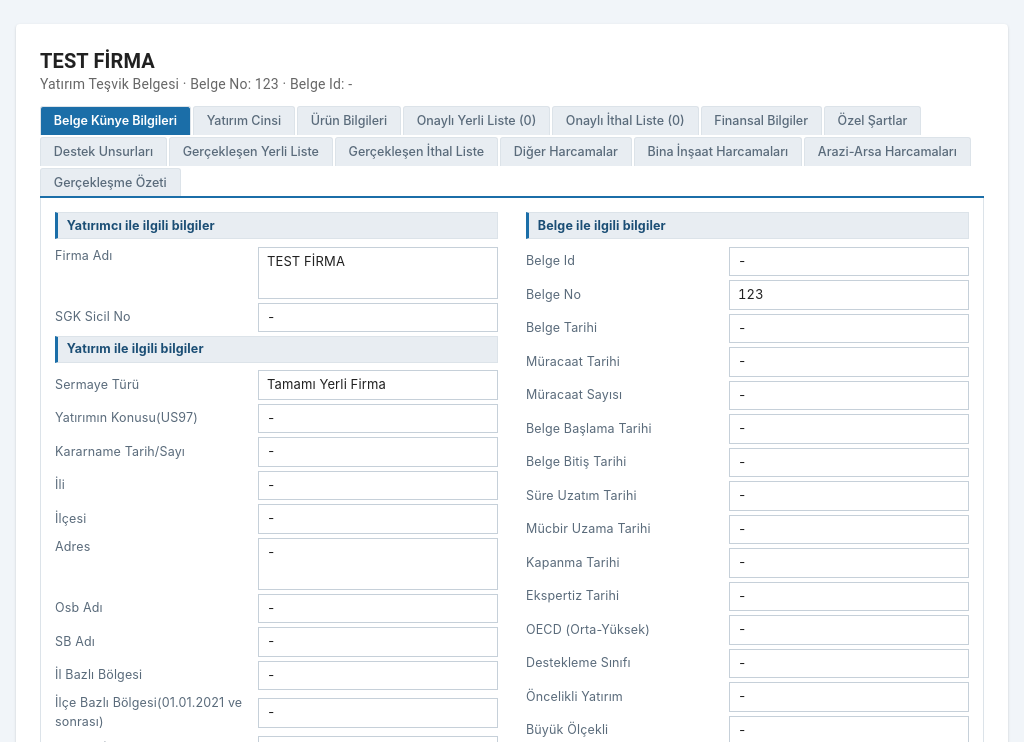
Test: müşteri ithal makinede birim etiketini, EUR birim fiyatını ve USD FOB toplamını görür
This screenshot has width=1024, height=742.
Later steps or results of the test are not shown.
Click the tab "Gerçekleşen İthal Liste" at (416, 151), box [335,137,498,166]
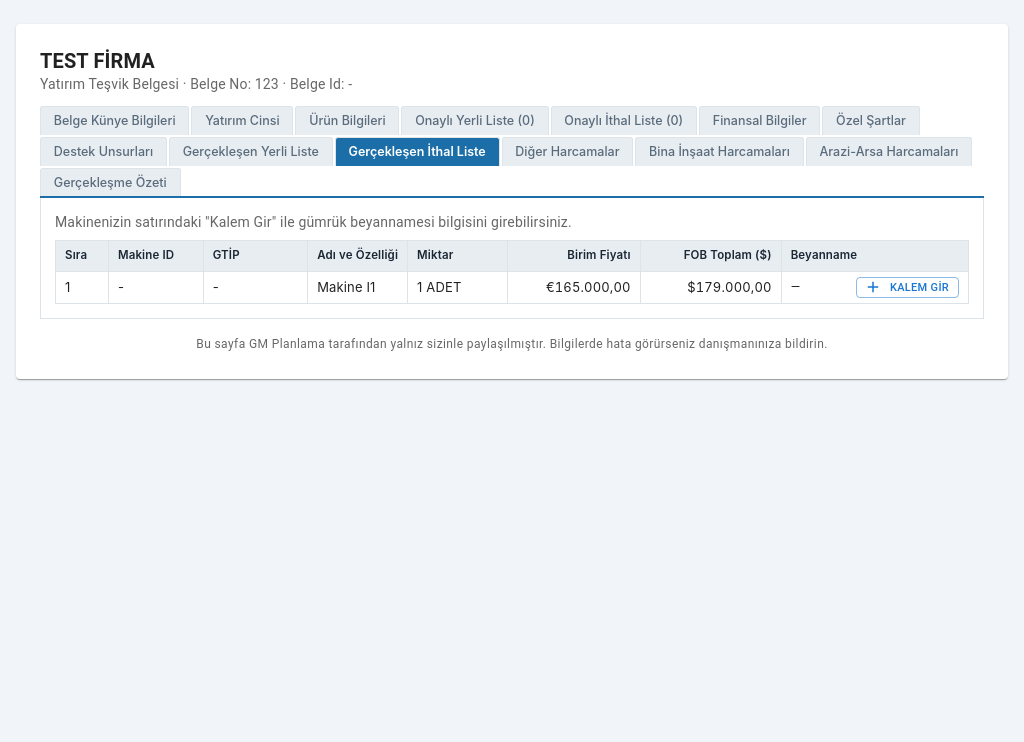
Check: the text "1 ADET" is shown, box [408,271,508,303]
